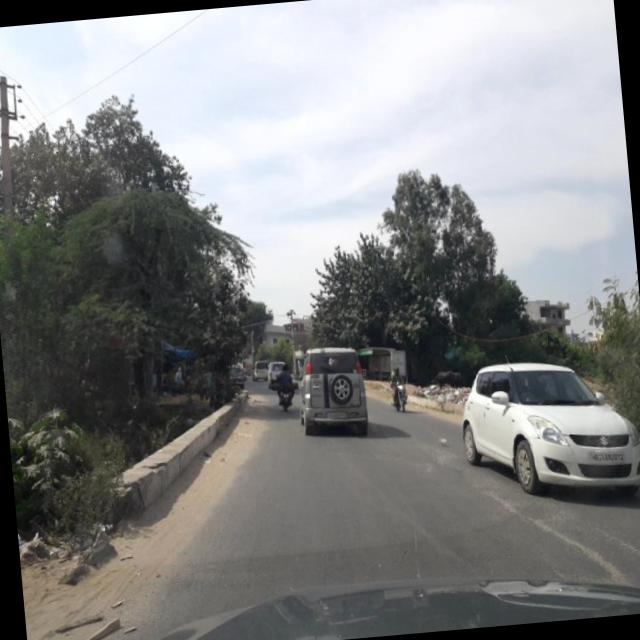pothole: (481, 472, 625, 590)
